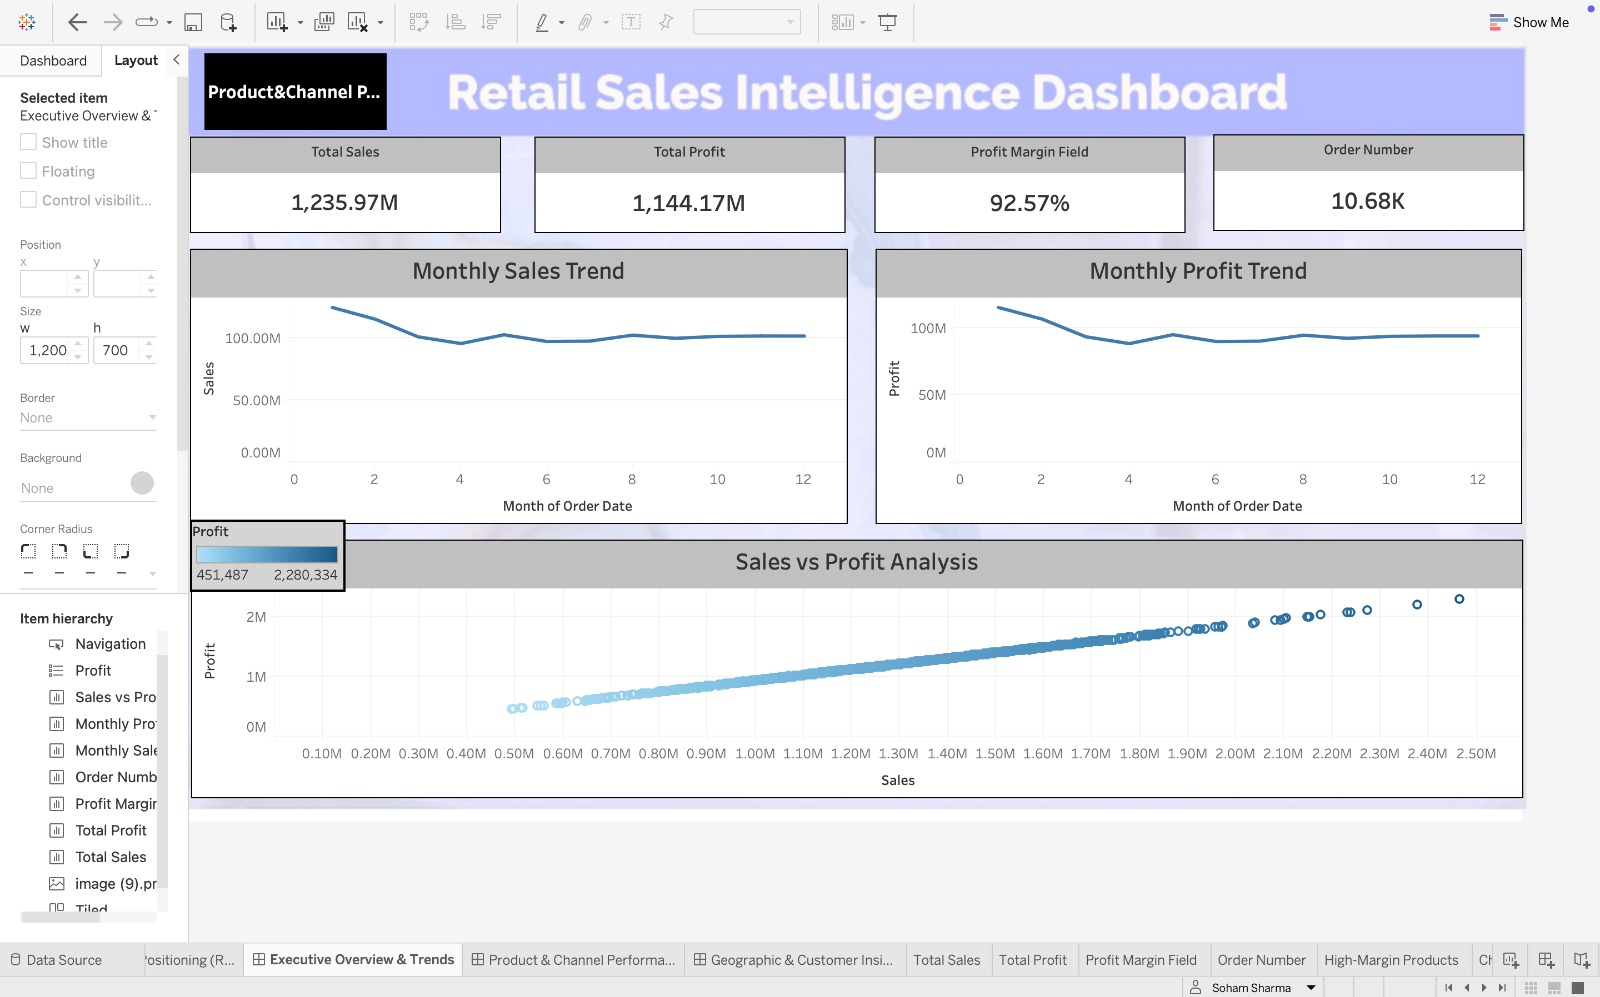

The dashboard page shown, as its layout file describes it:
{"tool":"tableau","page":{"name":"Executive Overview & Trends","canvas":[1200,700],"ordinal":0},"visuals":[{"type":"dashboard-object","box":[14,8,164,69]},{"type":"worksheet","title":"Order Number","mark":"Automatic","box":[922,81,280,87]},{"type":"worksheet","title":"Total Sales","mark":"Automatic","box":[1,83,280,87]},{"type":"worksheet","title":"Total Profit","mark":"Automatic","box":[311,83,280,87]},{"type":"worksheet","title":"Profit Margin Field","mark":"Automatic","box":[617,83,280,87]},{"type":"worksheet","title":"Monthly Sales Trend","mark":"Automatic","rows":["Sales"],"cols":["OrderDate"],"box":[1,184,592,248]},{"type":"worksheet","title":"Monthly Profit Trend","mark":"Automatic","rows":["Profit"],"cols":["OrderDate"],"box":[618,184,582,248]},{"type":"legend","title":"Sales vs Profit Analysis","param":"[federated.1th0zxz0034qv815x2u431r59pou].[sum:Profit:qk]","box":[1,428,140,65]},{"type":"worksheet","title":"Sales vs Profit Analysis","mark":"Automatic","rows":["Profit"],"cols":["Sales"],"box":[2,446,1199,233]}]}

Visuals, with their boxes on the page's 1200x700 design canvas (x1, y1, x2, y2). These are canvas units, not pixel positions in the 1600x997 screenshot, which may show the page scaled, cropped or inside an application window:
dashboard-object: box(14, 8, 178, 77)
"Order Number" worksheet: box(922, 81, 1202, 168)
"Total Sales" worksheet: box(1, 83, 281, 170)
"Total Profit" worksheet: box(311, 83, 591, 170)
"Profit Margin Field" worksheet: box(617, 83, 897, 170)
"Monthly Sales Trend" worksheet: box(1, 184, 593, 432)
"Monthly Profit Trend" worksheet: box(618, 184, 1200, 432)
"Sales vs Profit Analysis" legend: box(1, 428, 141, 493)
"Sales vs Profit Analysis" worksheet: box(2, 446, 1201, 679)
